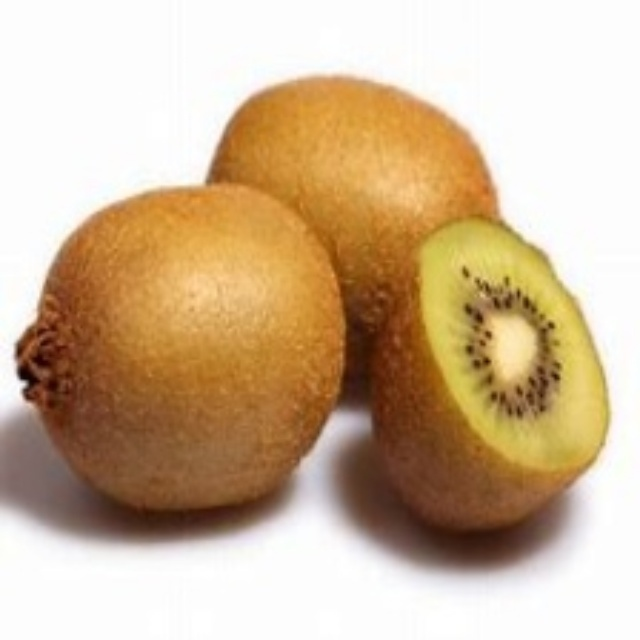kiwi: (18, 186, 347, 510), (358, 216, 613, 537), (210, 81, 507, 327)
